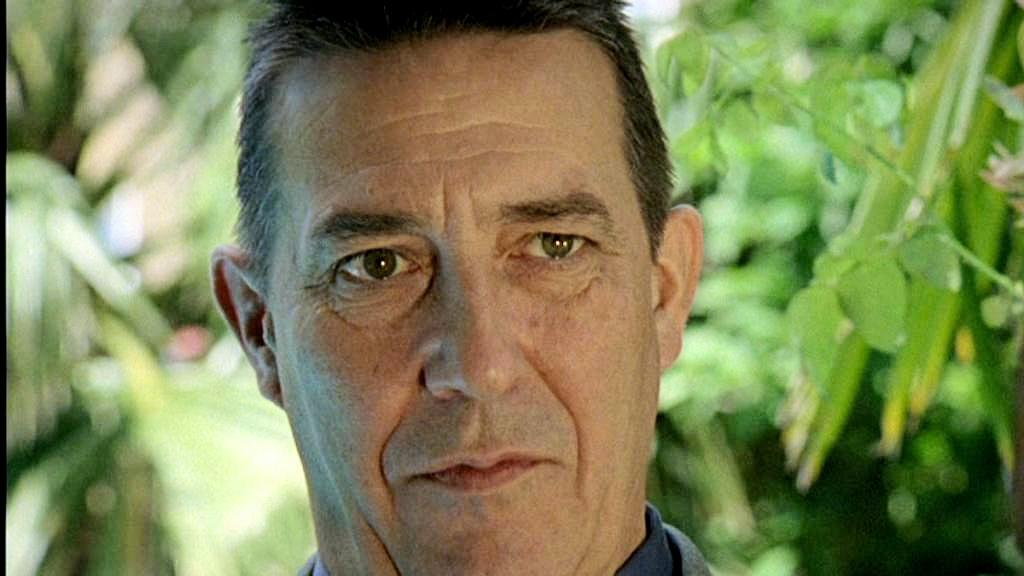face: (274, 50, 654, 574)
